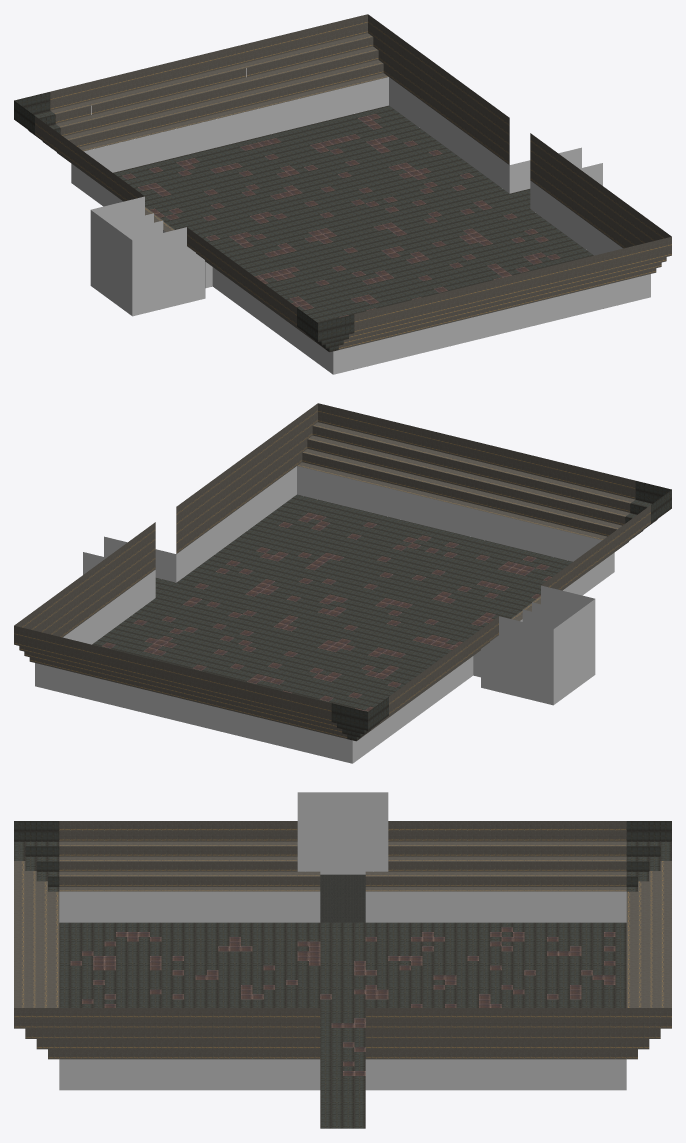
Rendered from Final locations.fbx.
3 views of the same model, one above another, from view 1: azimuth 30°, elevation 25°; view 2: azimuth 150°, elevation 25°; view 3: azimuth 270°, elevation 25° (orthographic). The views are drawn at different scales.
Visible parts, largest first — view 1: Plane.939; view 2: Plane.939; view 3: Plane.939.
Part boxes in pixels (<box>): Plane.939: <box>14,14,671,374</box>; Plane.939: <box>14,403,671,763</box>; Plane.939: <box>14,792,671,1128</box>.
Bounding box in the file's own units: 10600 × 1600 × 11601.
